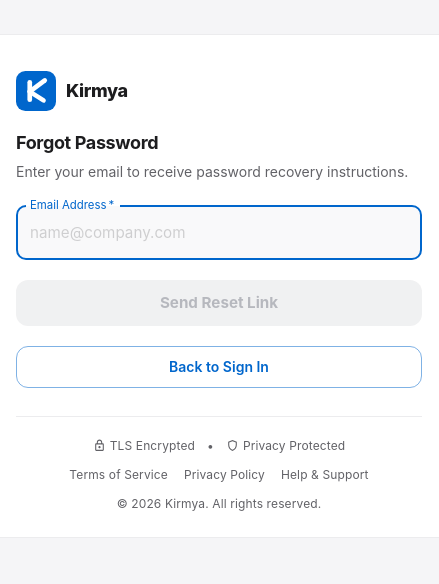
Test: ForgotPasswordPage › says the same thing whether or not the address has an account
Step 1. Type "nobody@example.com" into the field labelled "Email Address *" → [219, 233], box left=16, top=206, right=422, bottom=260
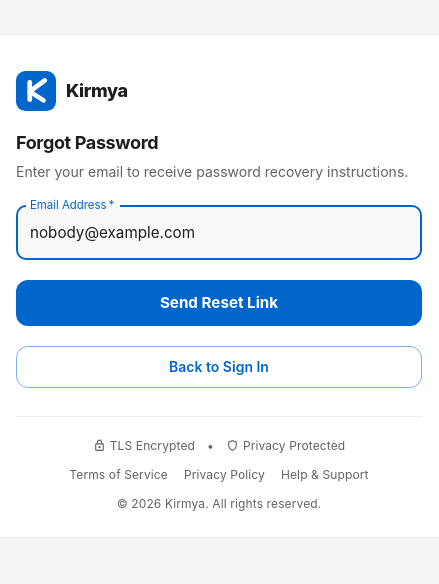
Step 2. Click the button "Send Reset Link" → [219, 303], box left=16, top=280, right=422, bottom=326
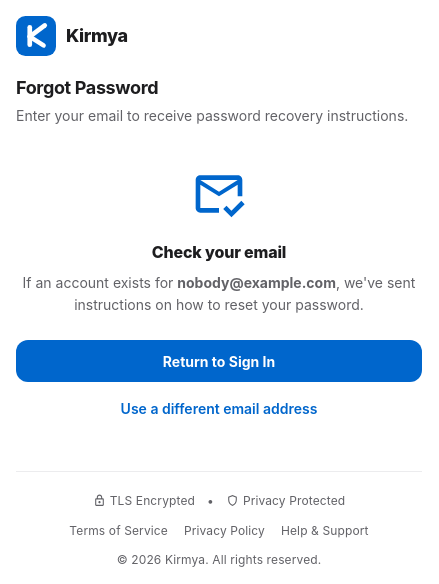
Expected: the heading "Check your email" is shown, left=152, top=242, right=286, bottom=262
Expected: the text "If an account exists" is shown, left=23, top=274, right=177, bottom=291
